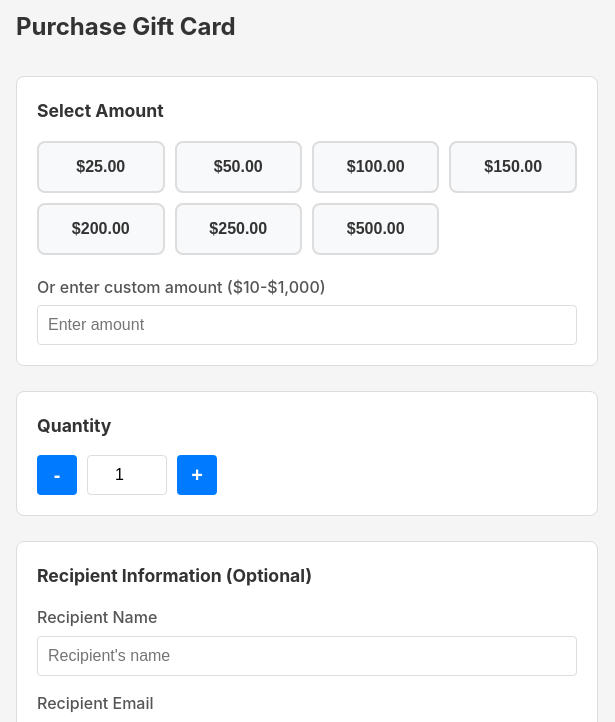
GiftCardPurchase › should display error when quantity is greater than 10
Click the button "$100.00" at [376, 166], box left=312, top=140, right=440, bottom=192
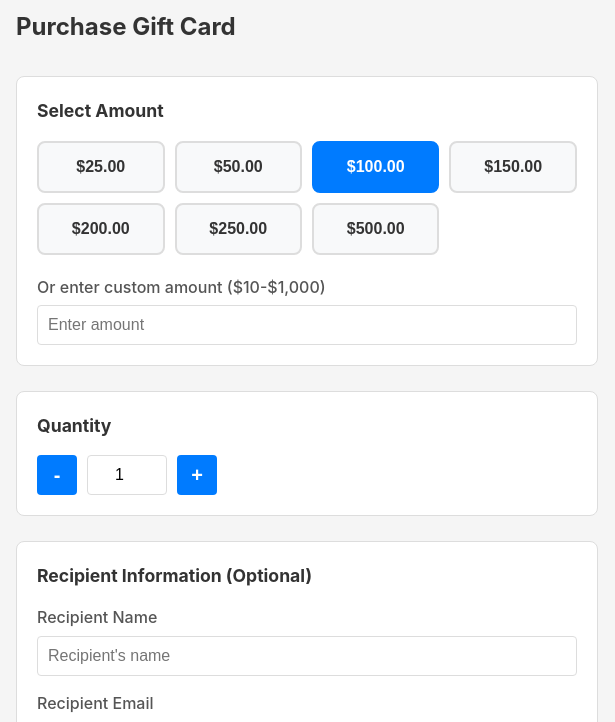
Input onChange clamps to 1-10, so 11 becomes 10
Replace the text in the number field showing "1" with "11" at [127, 475], box left=87, top=455, right=167, bottom=495
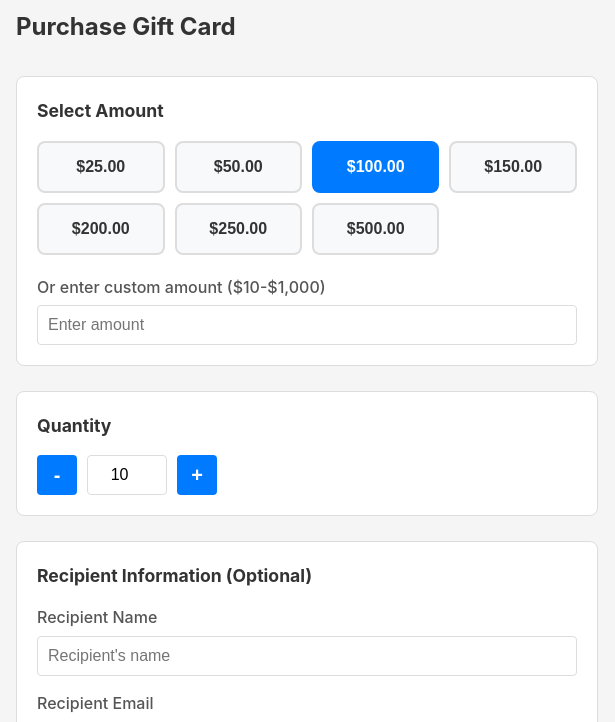
Result: the number field showing "1" holds "10" at left=87, top=455, right=167, bottom=495
